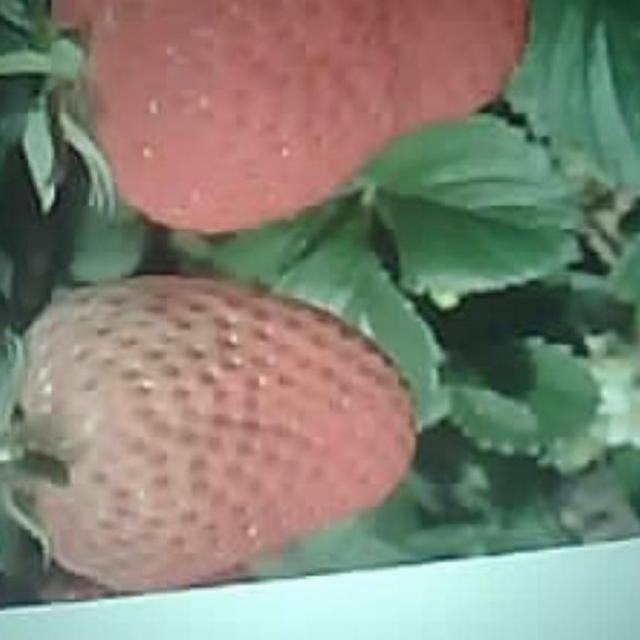Healthy Fruit: (10, 271, 419, 592)
